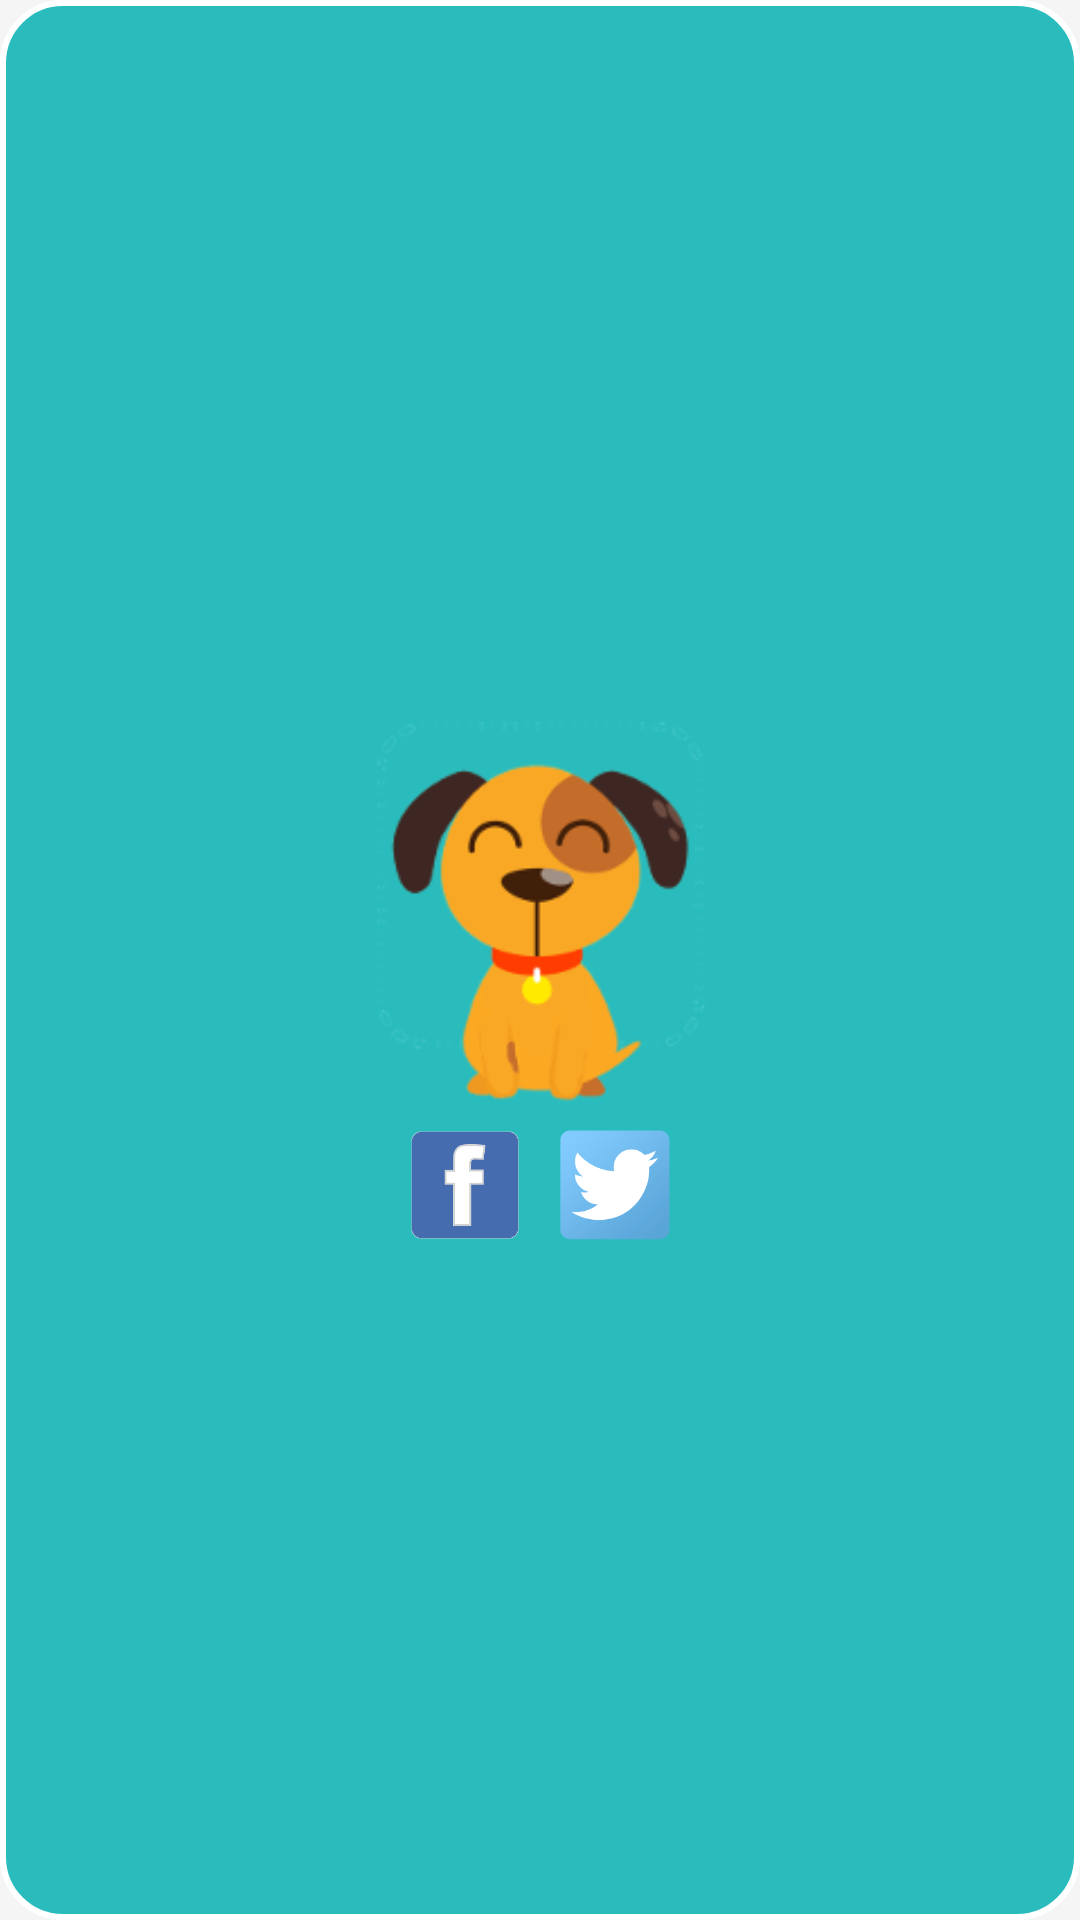

Point at icon controls on the screen. Image size 1080w x 1920h, points as point (x, y).
anjing senang: point (540, 932)
